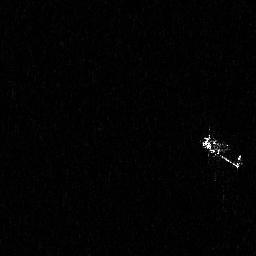ship: (200, 125, 245, 172)
